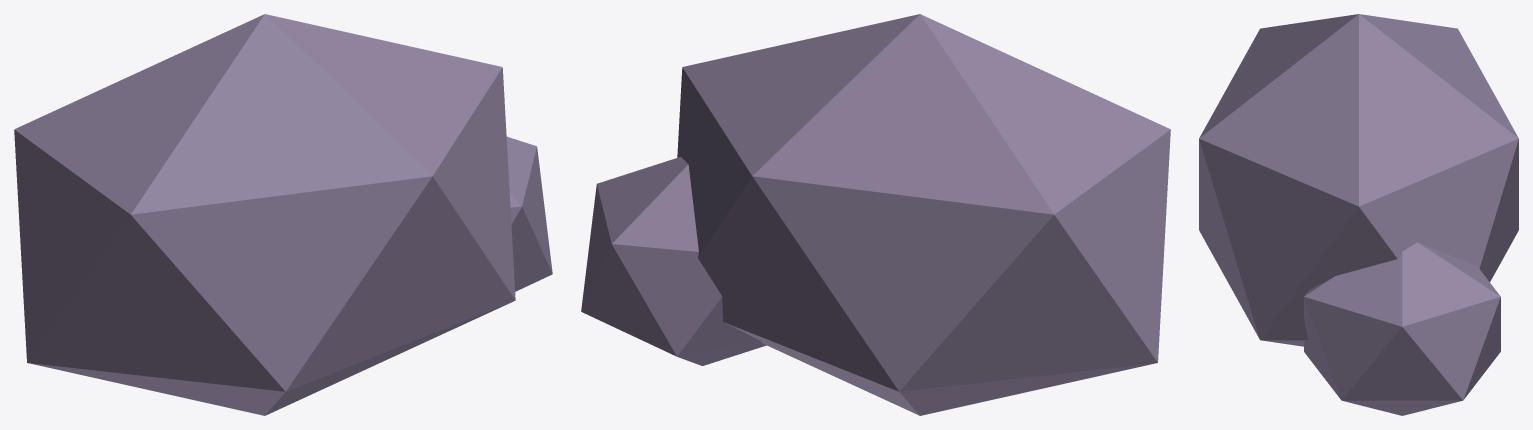
File: Rock.glb
3 views of the same model, side by side, from view 1: azimuth 30°, elevation 25°; view 2: azimuth 150°, elevation 25°; view 3: azimuth 270°, elevation 25° (orthographic). The views are drawn at different scales.
Visible parts, largest first — view 1: Stone, Stone.001; view 2: Stone, Stone.001; view 3: Stone, Stone.001.
Part boxes in pixels (box(x1,y1,x2,y2)): Stone: box(14, 14, 515, 415); Stone.001: box(506, 136, 552, 291); Stone: box(677, 14, 1170, 415); Stone.001: box(581, 157, 766, 365); Stone: box(1199, 14, 1518, 346); Stone.001: box(1304, 242, 1500, 415).
Bounding box in the file's own units: 1.81 × 1.3 × 1.11.
